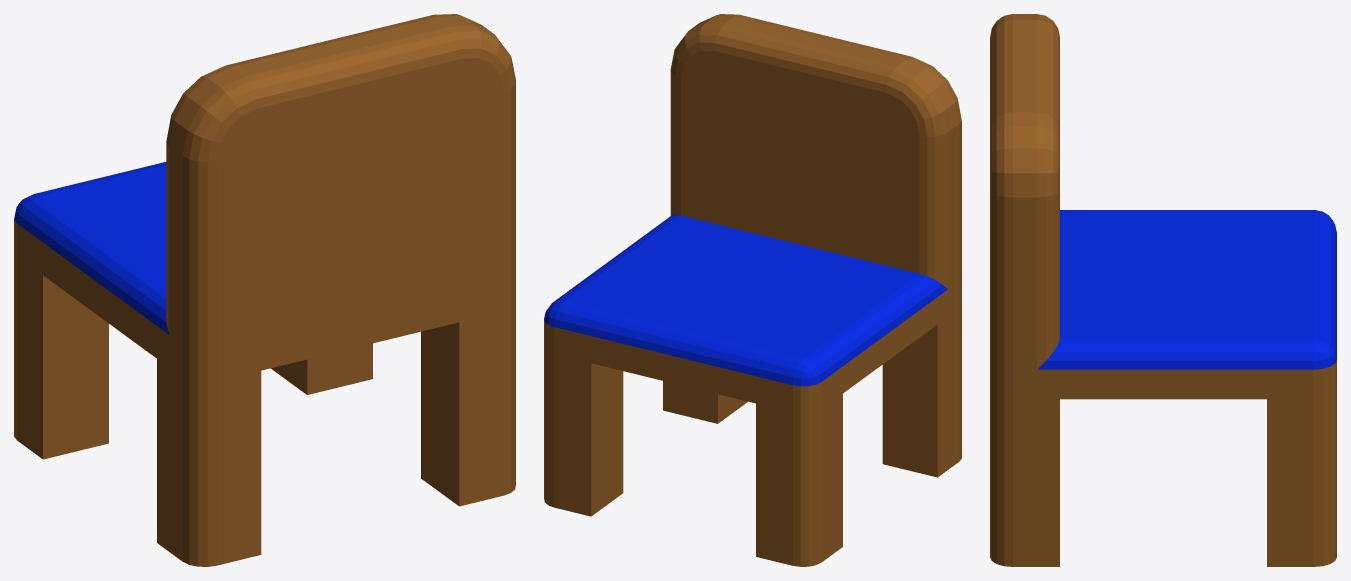
The model's file is Chair.fbx.
3 views of the same model, side by side, from view 1: azimuth 30°, elevation 25°; view 2: azimuth 150°, elevation 25°; view 3: azimuth 270°, elevation 25° (orthographic). The views are drawn at different scales.
Parts seen in each view (by area): view 1: Cube; view 2: Cube; view 3: Cube.
Boxes of the visible parts, x1,y1,x2,y2 form: Cube: (14,14,515,566); Cube: (544,14,961,566); Cube: (990,14,1336,566).
Size of the model in its own units: 75 by 102 by 75.
